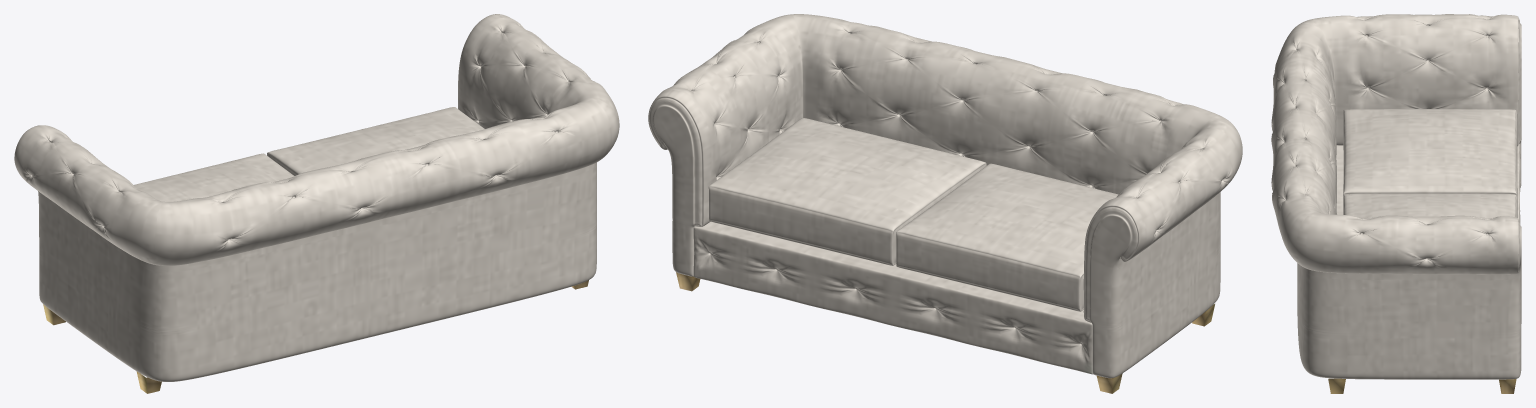
The model's file is Sofa11.glb.
The picture shows the model from 3 angles, left to right: view 1: azimuth 30°, elevation 25°; view 2: azimuth 150°, elevation 25°; view 3: azimuth 270°, elevation 25°; orthographic projection. The views are drawn at different scales.
Parts seen in each view (by area): view 1: Sofa11_model; view 2: Sofa11_model; view 3: Sofa11_model.
Boxes of the visible parts, bbox=[...] form: Sofa11_model: bbox=[14, 14, 619, 393]; Sofa11_model: bbox=[648, 14, 1242, 393]; Sofa11_model: bbox=[1271, 14, 1521, 393].
Size of the model in its own units: 4.35 by 1.61 by 2.04.
Materials: 1 (1 with a texture image).
